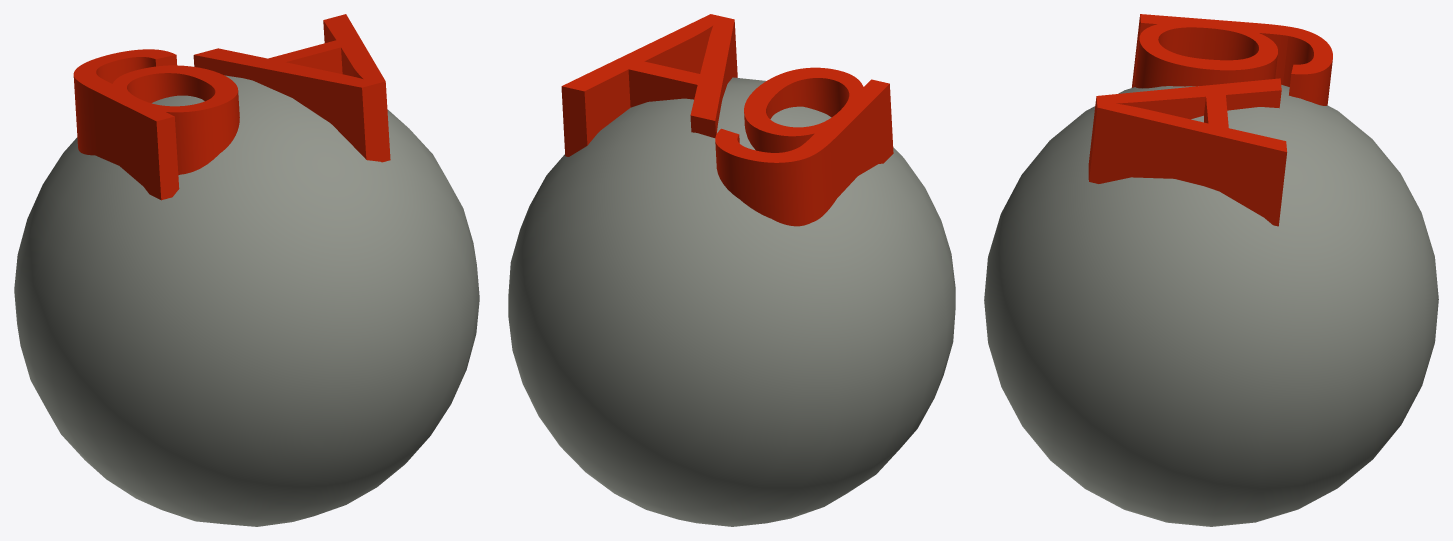
3 renders of one model, left to right at view 1: azimuth 30°, elevation 25°; view 2: azimuth 150°, elevation 25°; view 3: azimuth 270°, elevation 25°, orthographic. The views are drawn at different scales.
Visible parts, largest first — view 1: Ag; view 2: Ag; view 3: Ag.
Part boxes in pixels (bbox=[...]): Ag: bbox=[14, 14, 479, 526]; Ag: bbox=[508, 14, 955, 526]; Ag: bbox=[984, 14, 1438, 526].
Bounding box in the file's own units: 38.72 × 41.04 × 38.72.
